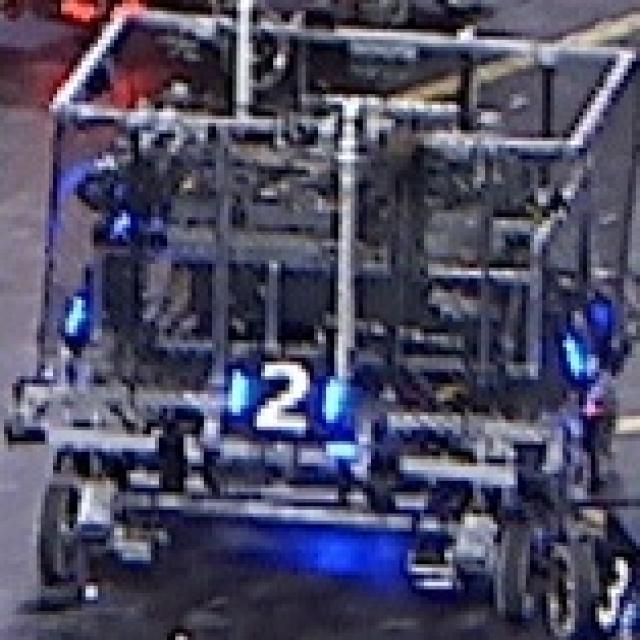R2: (208, 352, 350, 440), (542, 289, 620, 380)
R3: (579, 544, 640, 635)
